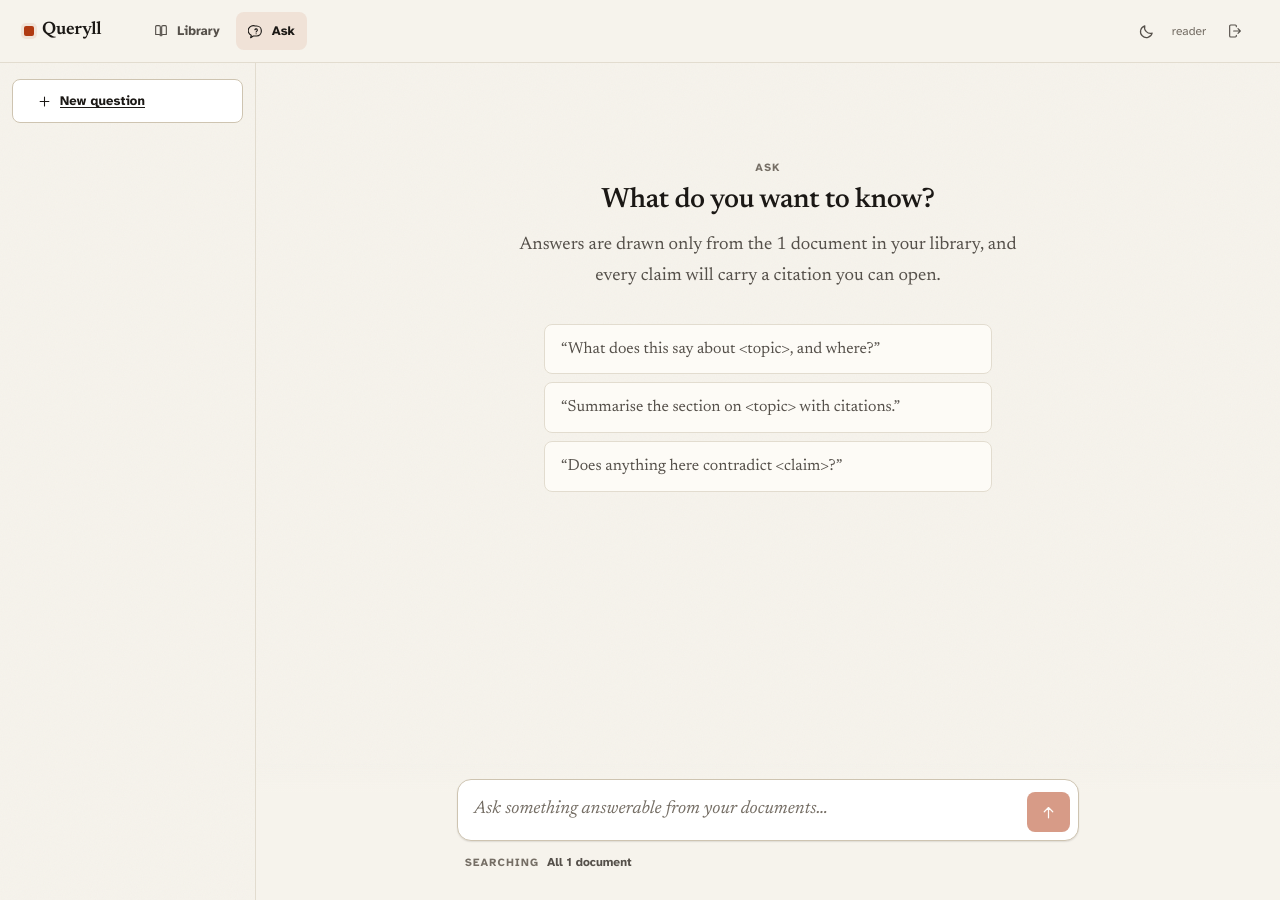
the answer stream › dims the sources the finished answer did not cite, without hiding them
The image size is (1280, 900).
Type "How is the sample stratified?" into the text box named "Your question".
click(743, 810); type("How is the sample stratified?")  # box left=466, top=788, right=1019, bottom=832
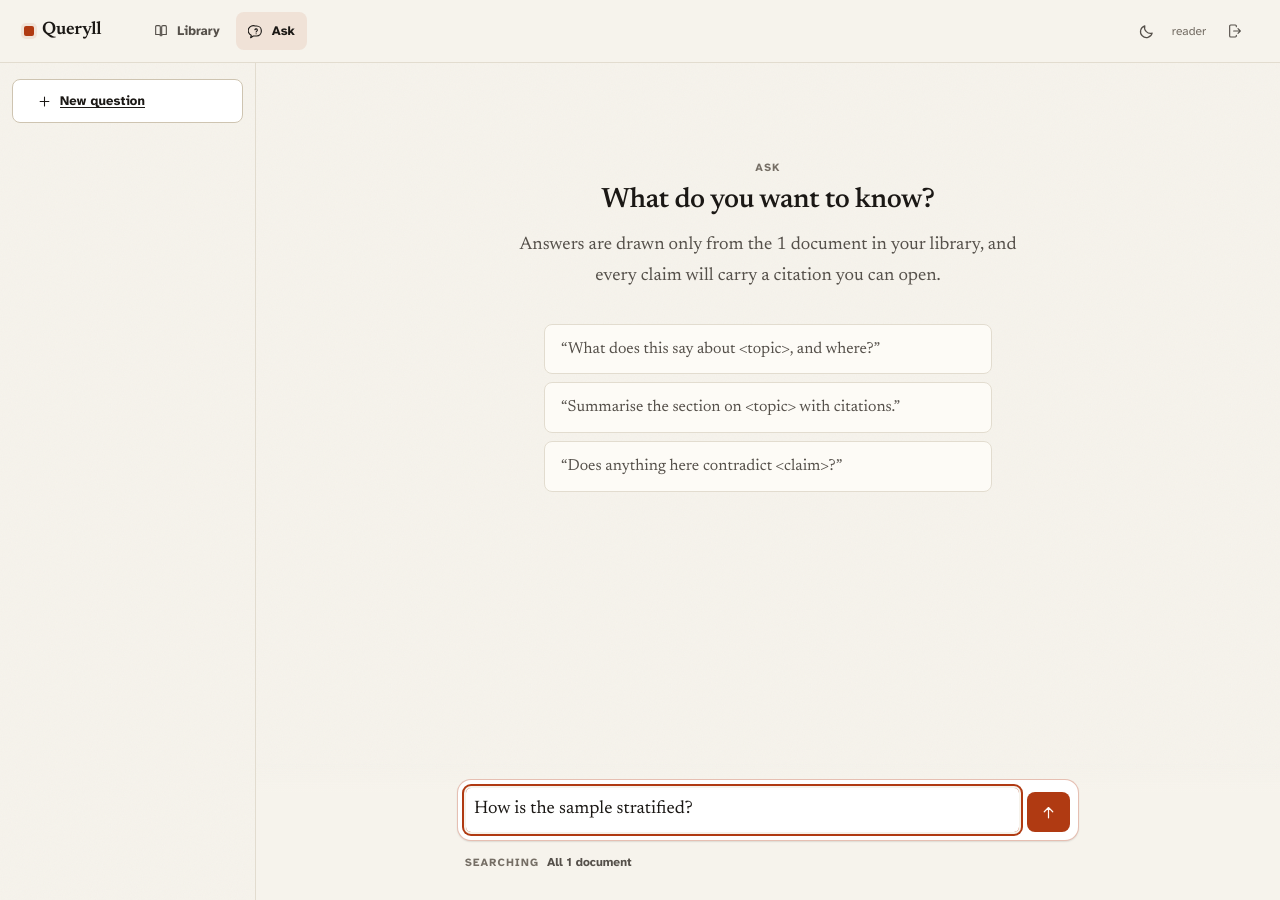
Click the button named "Ask".
click(1048, 812)  # box left=1027, top=792, right=1070, bottom=832
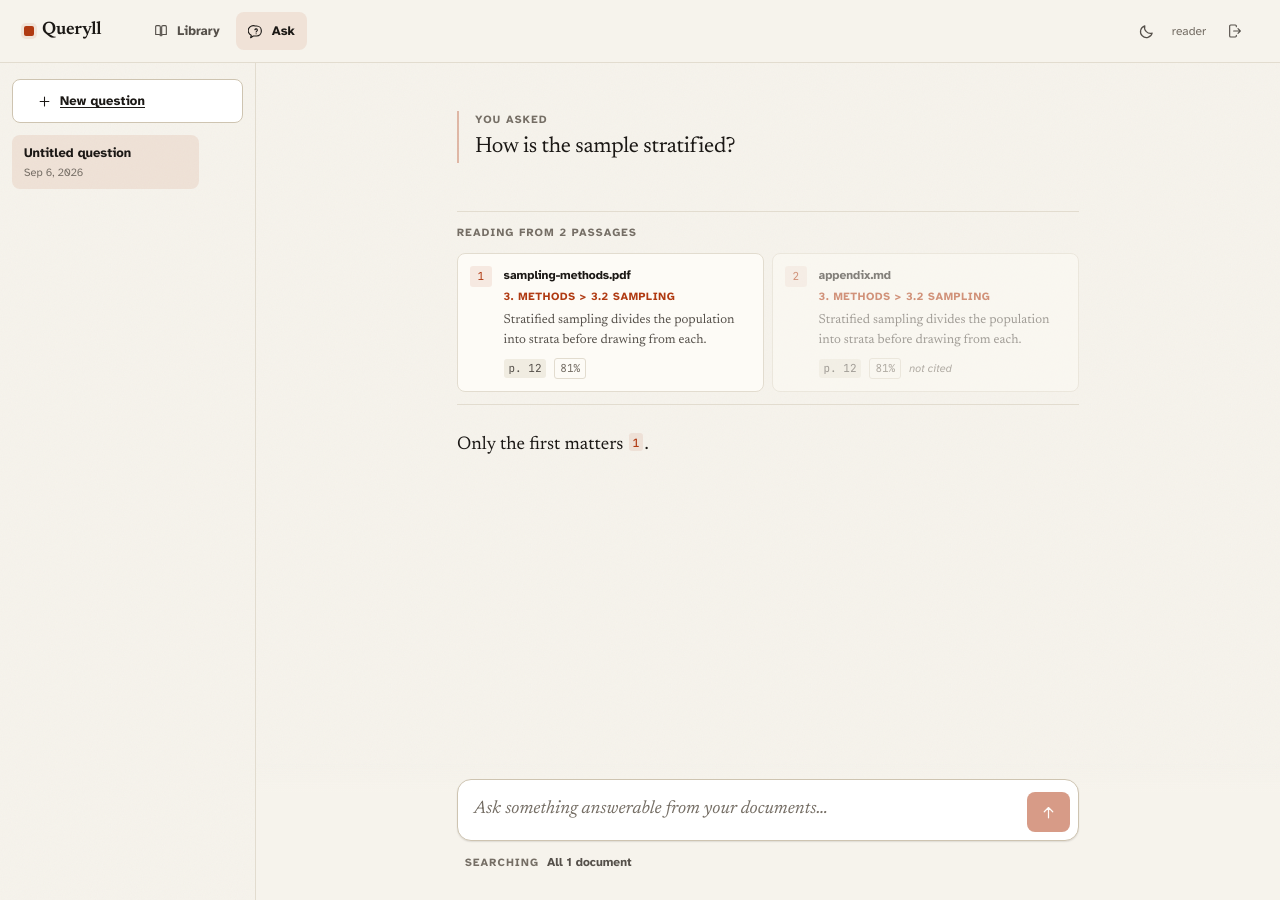
Expected: the text "not cited" is shown once, left=909, top=360, right=952, bottom=377
Expected: the text "appendix.md" is shown, left=819, top=268, right=891, bottom=282
